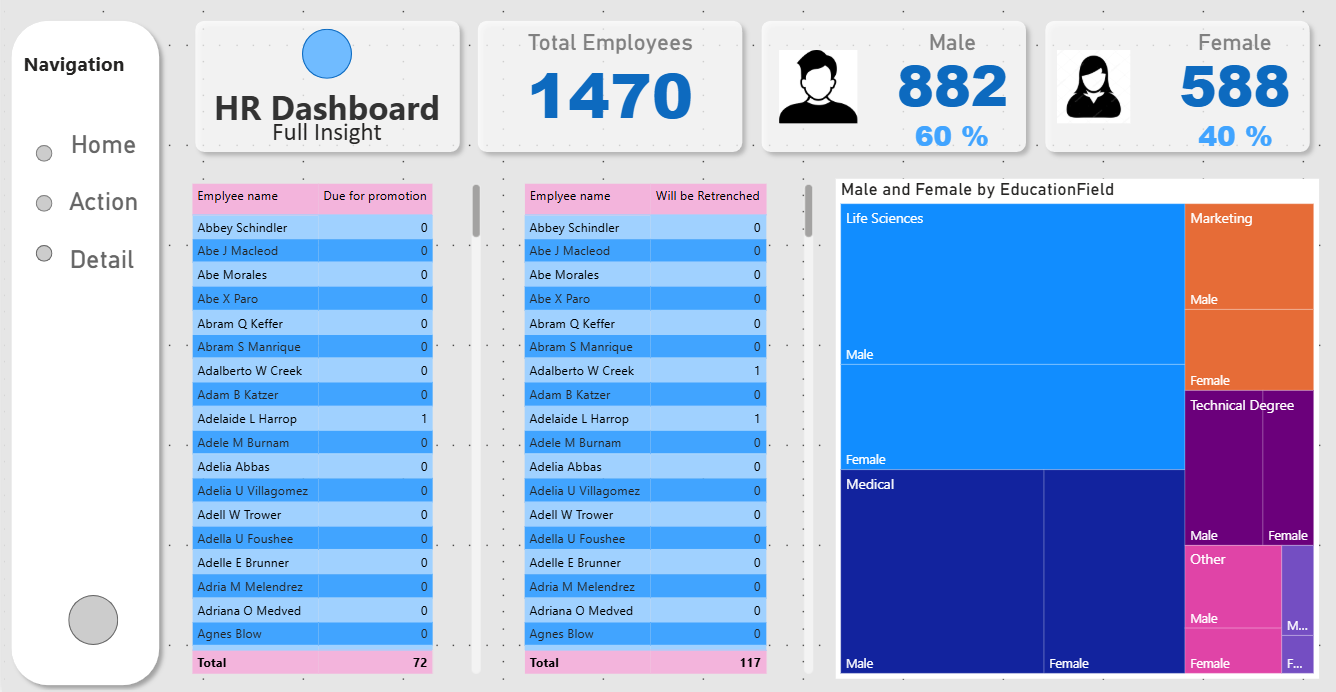

This screenshot's page, from the dashboard's own definition file:
{"tool":"powerbi","page":{"name":"Action","canvas":[1280,720],"ordinal":1},"visuals":[{"type":"shape","box":[176,64,272,144],"z":0},{"type":"shape","box":[448,64,272,144],"z":1000},{"type":"shape","box":[720,64,272,144],"z":2000},{"type":"shape","box":[992,64,272,144],"z":3000},{"type":"textbox","box":[192,128,240,64],"z":4000},{"type":"textbox","box":[192,160,240,64],"z":5000},{"type":"shape","box":[288,80,48,48],"z":6000},{"type":"card","title":"Total Employees","fields":{"Values":["All Measures.Total Emp"]},"box":[480,80,208,96],"z":7000},{"type":"card","title":"Male","fields":{"Values":["All Measures.Male"]},"box":[848,80,128,80],"z":8000},{"type":"card","title":"Male","fields":{"Values":["All Measures.Male %"]},"box":[864,160,96,48],"z":9000},{"type":"card","title":"Male","fields":{"Values":["All Measures.Female %"]},"box":[1136,160,96,48],"z":10000},{"type":"image","box":[736,96,96,80],"z":11000},{"type":"image","box":[1008,96,80,80],"z":12000},{"type":"card","title":"Female","fields":{"Values":["All Measures.Female"]},"box":[1120,80,128,80],"z":13000},{"type":"tableEx","fields":{"Values":["HR Analytics Data.Emplyee name","All Measures.Will be Retrenched"]},"box":[496,224,288,480],"z":14000},{"type":"shape","box":[0,64,160,656],"z":15000},{"type":"actionButton","title":"Home","box":[27.7,178,139.8,54.1],"z":16000},{"type":"actionButton","title":"Action","box":[27.7,232.1,139.8,58],"z":17000},{"type":"shape","box":[64,624,48,48],"z":18000},{"type":"shape","box":[32,288,16,16],"z":19000},{"type":"shape","box":[32,240,16,16],"z":20000},{"type":"shape","box":[32,192,16,16],"z":21000},{"type":"textbox","box":[16,96,128,48],"z":22000},{"type":"treemap","fields":{"Group":["HR Analytics Data.EducationField"],"Values":["All Measures.Male","All Measures.Female"]},"box":[800,224,464,480],"z":23000},{"type":"tableEx","fields":{"Values":["HR Analytics Data.Emplyee name","All Measures.Due for promotion"]},"box":[176,224,288,480],"z":24000},{"type":"actionButton","title":"Detail","box":[48,288,96,64],"z":25000}]}

Visuals, with their boxes on the page's 1280x720 design canvas (x1, y1, x2, y2). These are canvas units, not pixel positions in the 1336x692 screenshot, which may show the page scaled, cropped or inside an application window:
shape: x1=176 y1=64 x2=448 y2=208
shape: x1=448 y1=64 x2=720 y2=208
shape: x1=720 y1=64 x2=992 y2=208
shape: x1=992 y1=64 x2=1264 y2=208
textbox: x1=192 y1=128 x2=432 y2=192
textbox: x1=192 y1=160 x2=432 y2=224
shape: x1=288 y1=80 x2=336 y2=128
"Total Employees" card: x1=480 y1=80 x2=688 y2=176
"Male" card: x1=848 y1=80 x2=976 y2=160
"Male" card: x1=864 y1=160 x2=960 y2=208
"Male" card: x1=1136 y1=160 x2=1232 y2=208
image: x1=736 y1=96 x2=832 y2=176
image: x1=1008 y1=96 x2=1088 y2=176
"Female" card: x1=1120 y1=80 x2=1248 y2=160
tableEx - HR Analytics Data.Emplyee name x All Measures.Will be Retrenched: x1=496 y1=224 x2=784 y2=704
shape: x1=0 y1=64 x2=160 y2=720
"Home" actionButton: x1=28 y1=178 x2=168 y2=232
"Action" actionButton: x1=28 y1=232 x2=168 y2=290
shape: x1=64 y1=624 x2=112 y2=672
shape: x1=32 y1=288 x2=48 y2=304
shape: x1=32 y1=240 x2=48 y2=256
shape: x1=32 y1=192 x2=48 y2=208
textbox: x1=16 y1=96 x2=144 y2=144
treemap - HR Analytics Data.EducationField x All Measures.Male: x1=800 y1=224 x2=1264 y2=704
tableEx - HR Analytics Data.Emplyee name x All Measures.Due for promotion: x1=176 y1=224 x2=464 y2=704
"Detail" actionButton: x1=48 y1=288 x2=144 y2=352
